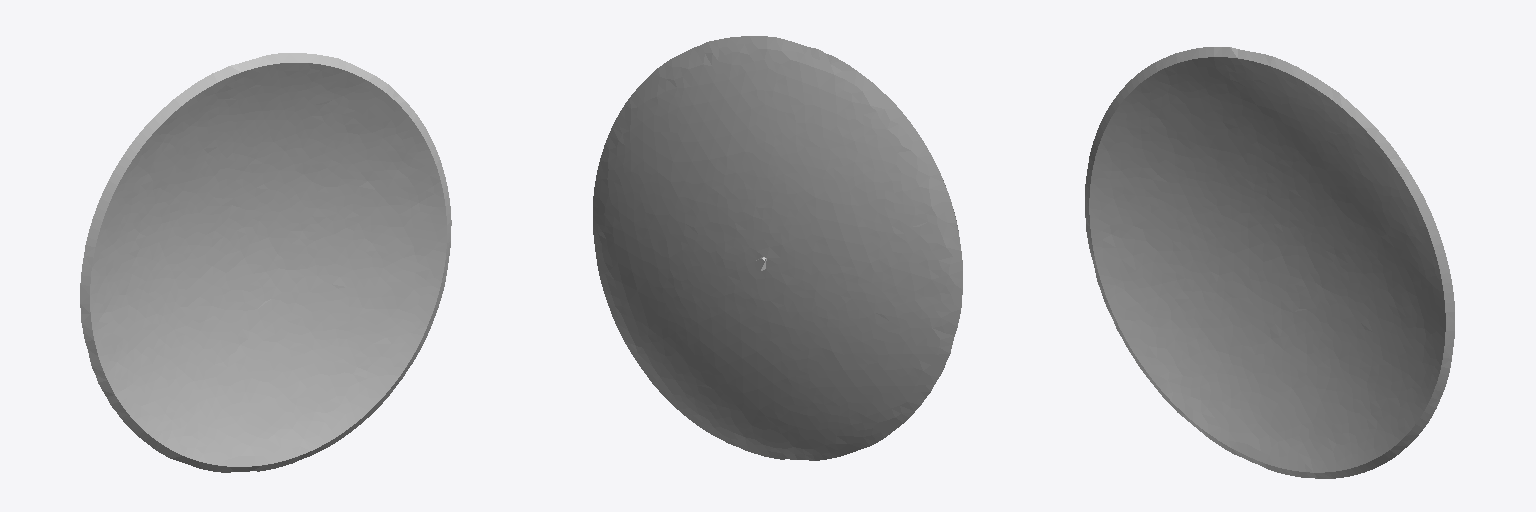
The model's file is Amulet_July_Disk_20.obj.
3 views of the same model, side by side, from view 1: azimuth 30°, elevation 25°; view 2: azimuth 150°, elevation 25°; view 3: azimuth 330°, elevation 25° (orthographic).
Size of the model in its own units: 24.83 by 26.79 by 3.3.